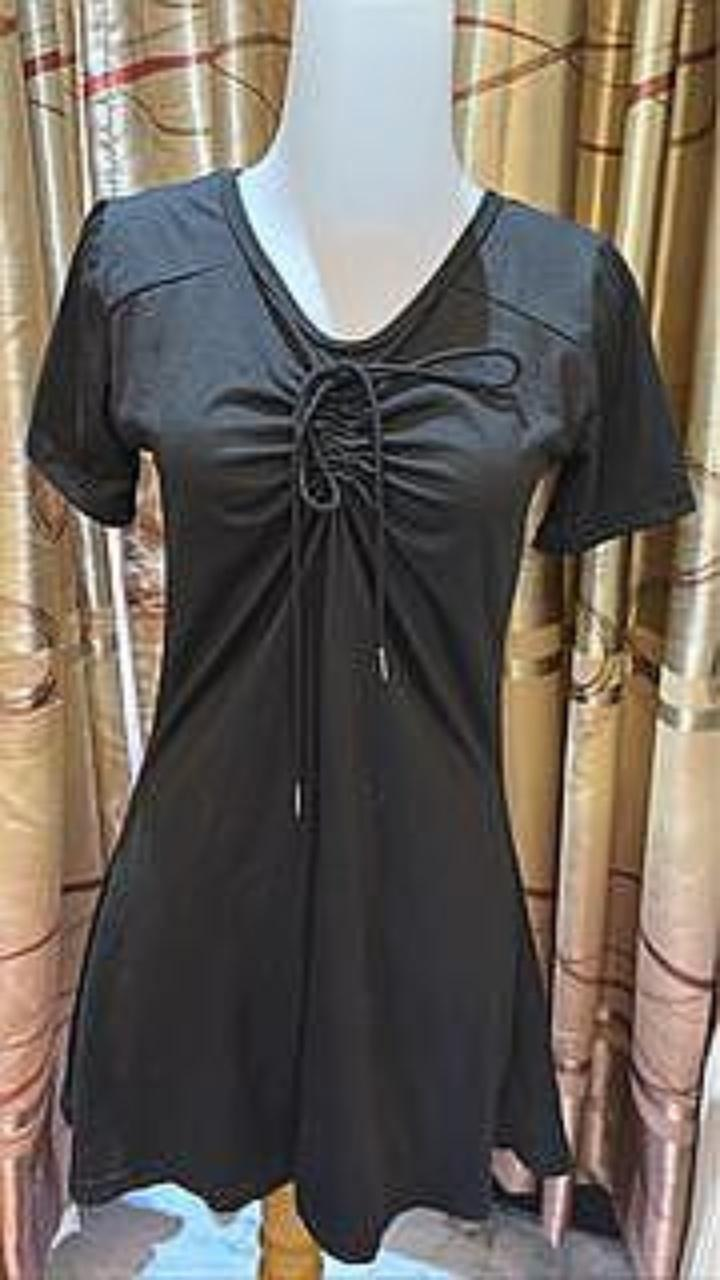Dresses: (27, 168, 694, 1260)
